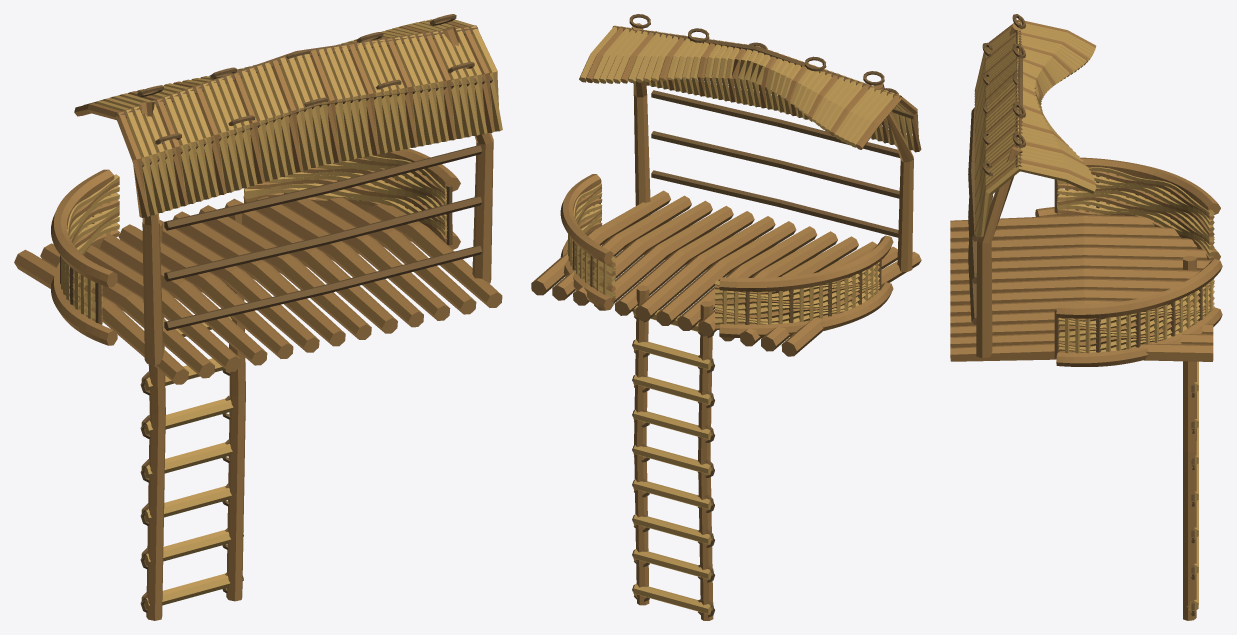
Rendered from woven-home.glb.
3 views of the same model, side by side, from view 1: azimuth 30°, elevation 25°; view 2: azimuth 150°, elevation 25°; view 3: azimuth 270°, elevation 25° (orthographic). The views are drawn at different scales.
Visible parts, largest first — view 1: rainhood, deck, ladder; view 2: deck, rainhood, ladder; view 3: deck, rainhood, ladder.
Boxes of the visible parts, bbox=[...] form: rainhood: bbox=[74, 14, 502, 365]; deck: bbox=[14, 148, 502, 384]; ladder: bbox=[140, 200, 245, 620]; deck: bbox=[531, 174, 921, 356]; rainhood: bbox=[579, 14, 921, 271]; ladder: bbox=[632, 285, 714, 620]; deck: bbox=[950, 157, 1222, 366]; rainhood: bbox=[968, 14, 1096, 358]; ladder: bbox=[1183, 255, 1198, 620].
Size of the model in its own units: 2.17 by 3.48 by 1.63.
